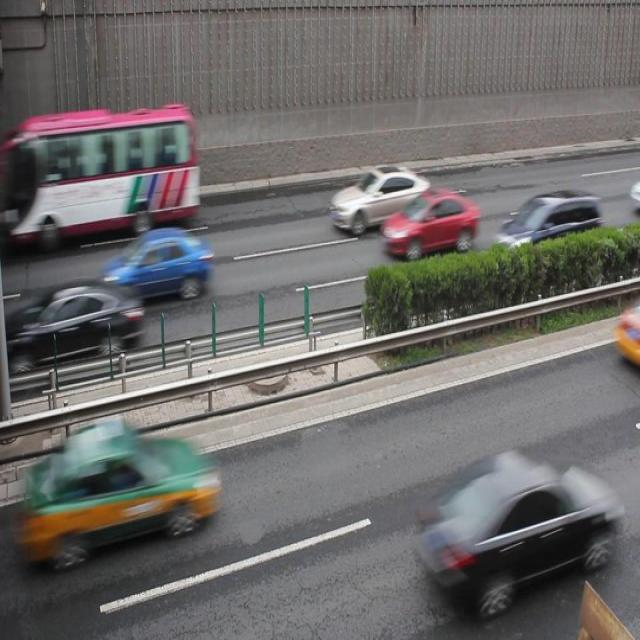car: (413, 449, 599, 613), (48, 419, 216, 562), (22, 280, 142, 366), (104, 228, 210, 302), (496, 189, 600, 258), (331, 167, 431, 232), (384, 188, 476, 252)
van: (22, 101, 198, 239)
